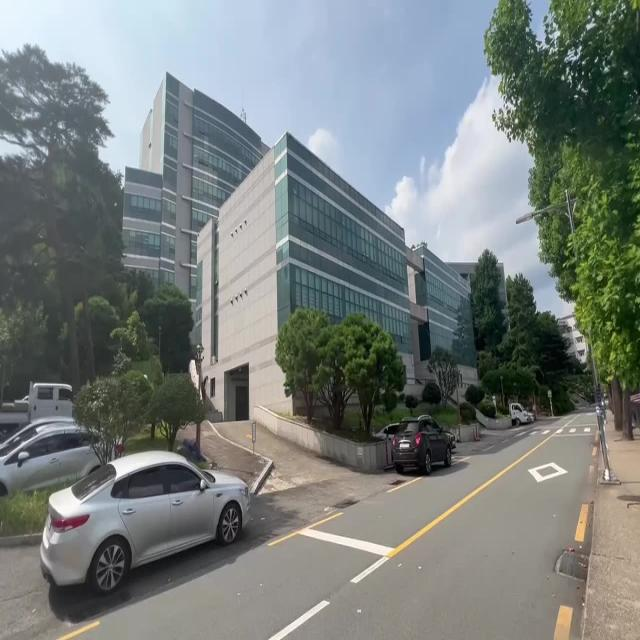building: (123, 66, 470, 365)
